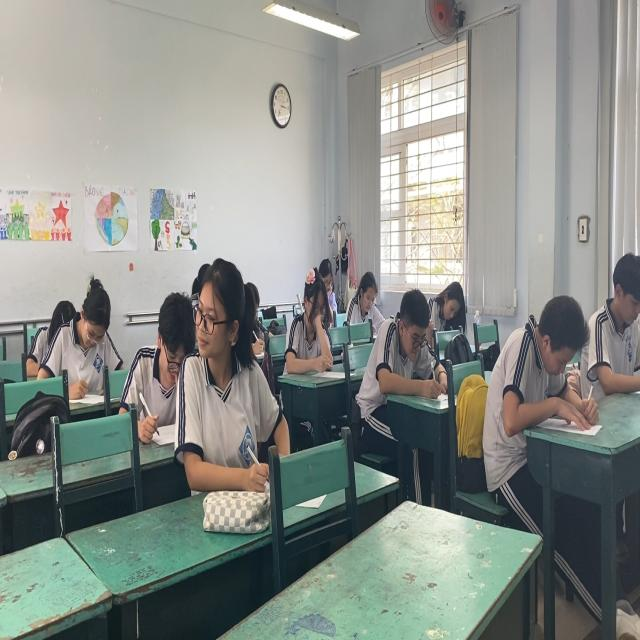cheating: (186, 261, 266, 461)
not_cheating: (489, 292, 586, 424), (51, 278, 126, 395), (136, 292, 186, 427), (374, 288, 440, 386), (293, 271, 334, 374), (346, 261, 378, 337), (431, 265, 466, 330)
